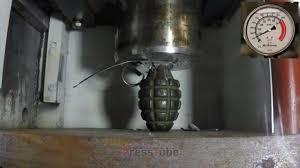Grenade: (70, 58, 181, 131)
